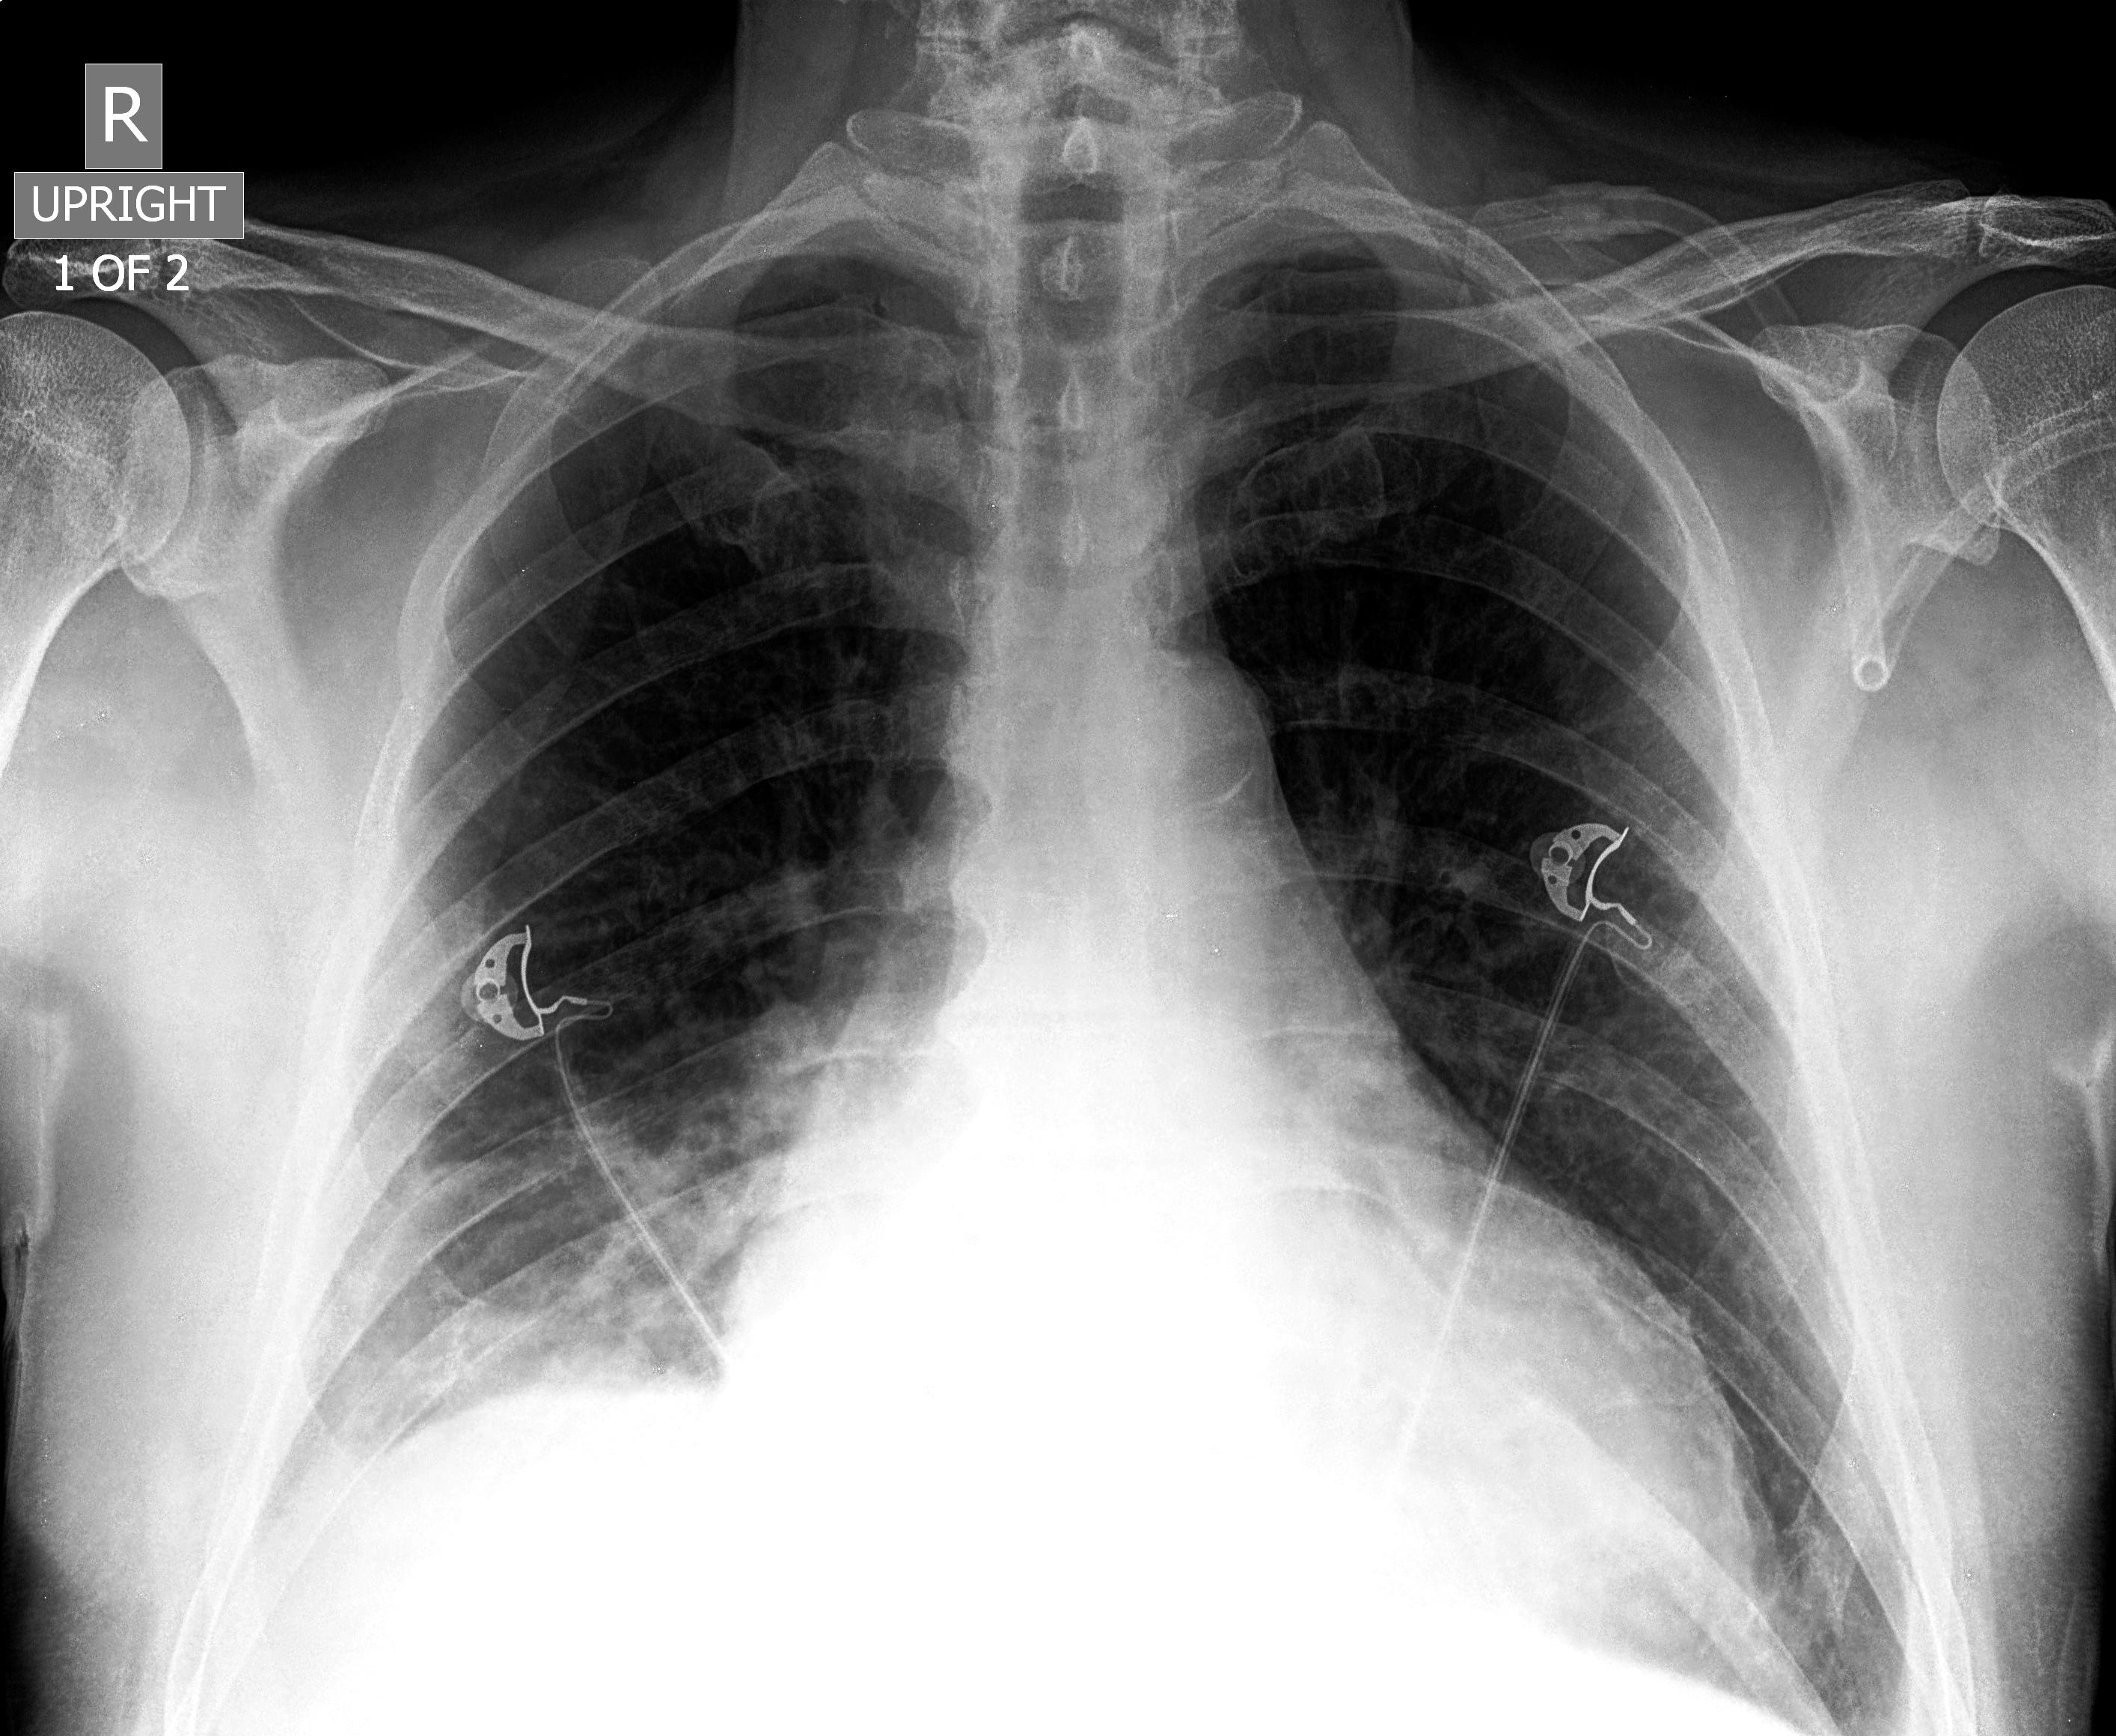Pleural Effusion: (220, 1369, 622, 1627)
